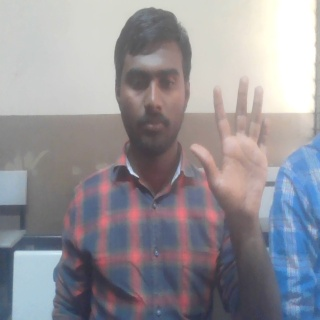Face: (112, 5, 192, 158)
Hello: (190, 74, 269, 222)
